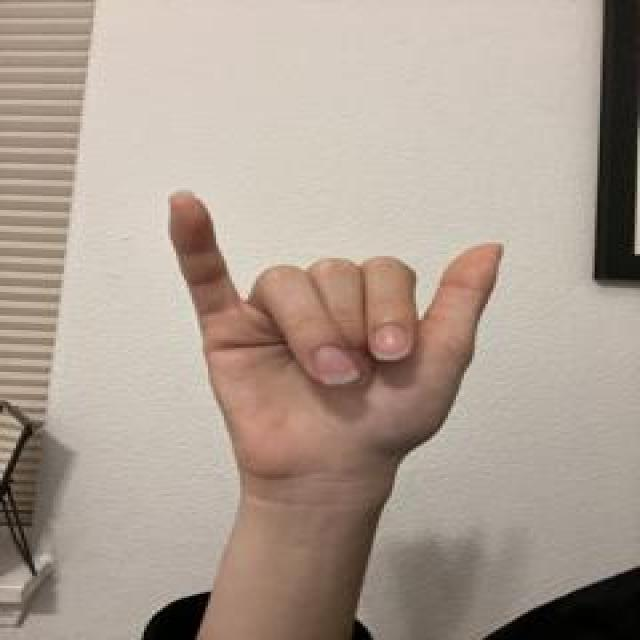Y: (163, 184, 507, 490)
